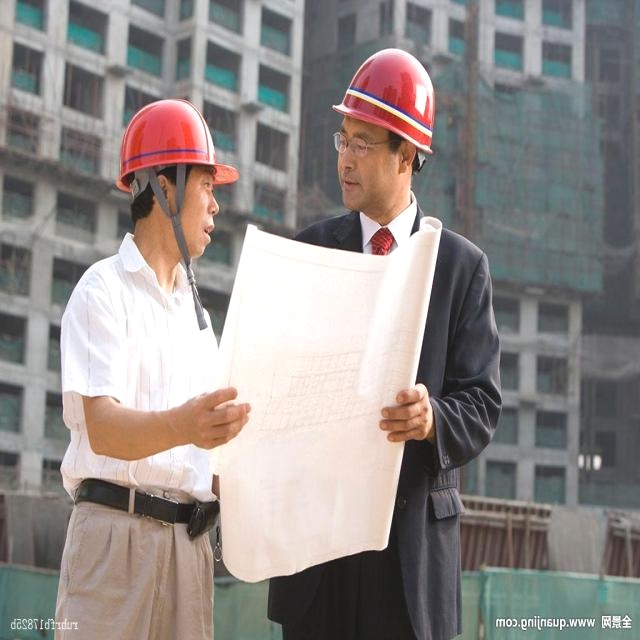Con_Casco: (118, 97, 238, 244), (331, 47, 437, 205)
